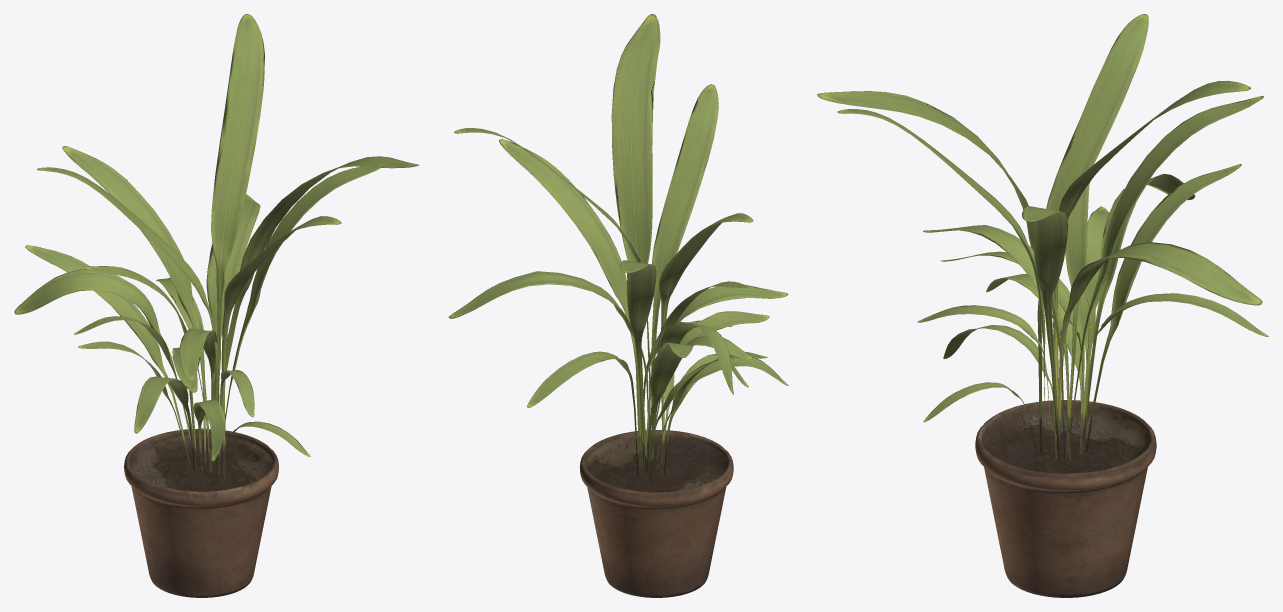
File: palm.glb
The picture shows the model from 3 angles, left to right: view 1: azimuth 30°, elevation 25°; view 2: azimuth 150°, elevation 25°; view 3: azimuth 270°, elevation 25°; orthographic projection. The views are drawn at different scales.
Visible parts, largest first — view 1: Pflanze_Pflanzenmaterial_0; view 2: Pflanze_Pflanzenmaterial_0; view 3: Pflanze_Pflanzenmaterial_0.
Part boxes in pixels (x1,y1,x2,y2): Pflanze_Pflanzenmaterial_0: [14, 14, 418, 597]; Pflanze_Pflanzenmaterial_0: [448, 14, 788, 597]; Pflanze_Pflanzenmaterial_0: [817, 14, 1268, 597].
Size of the model in its own units: 172 by 254 by 187.
Materials: 1 (1 with a texture image).
